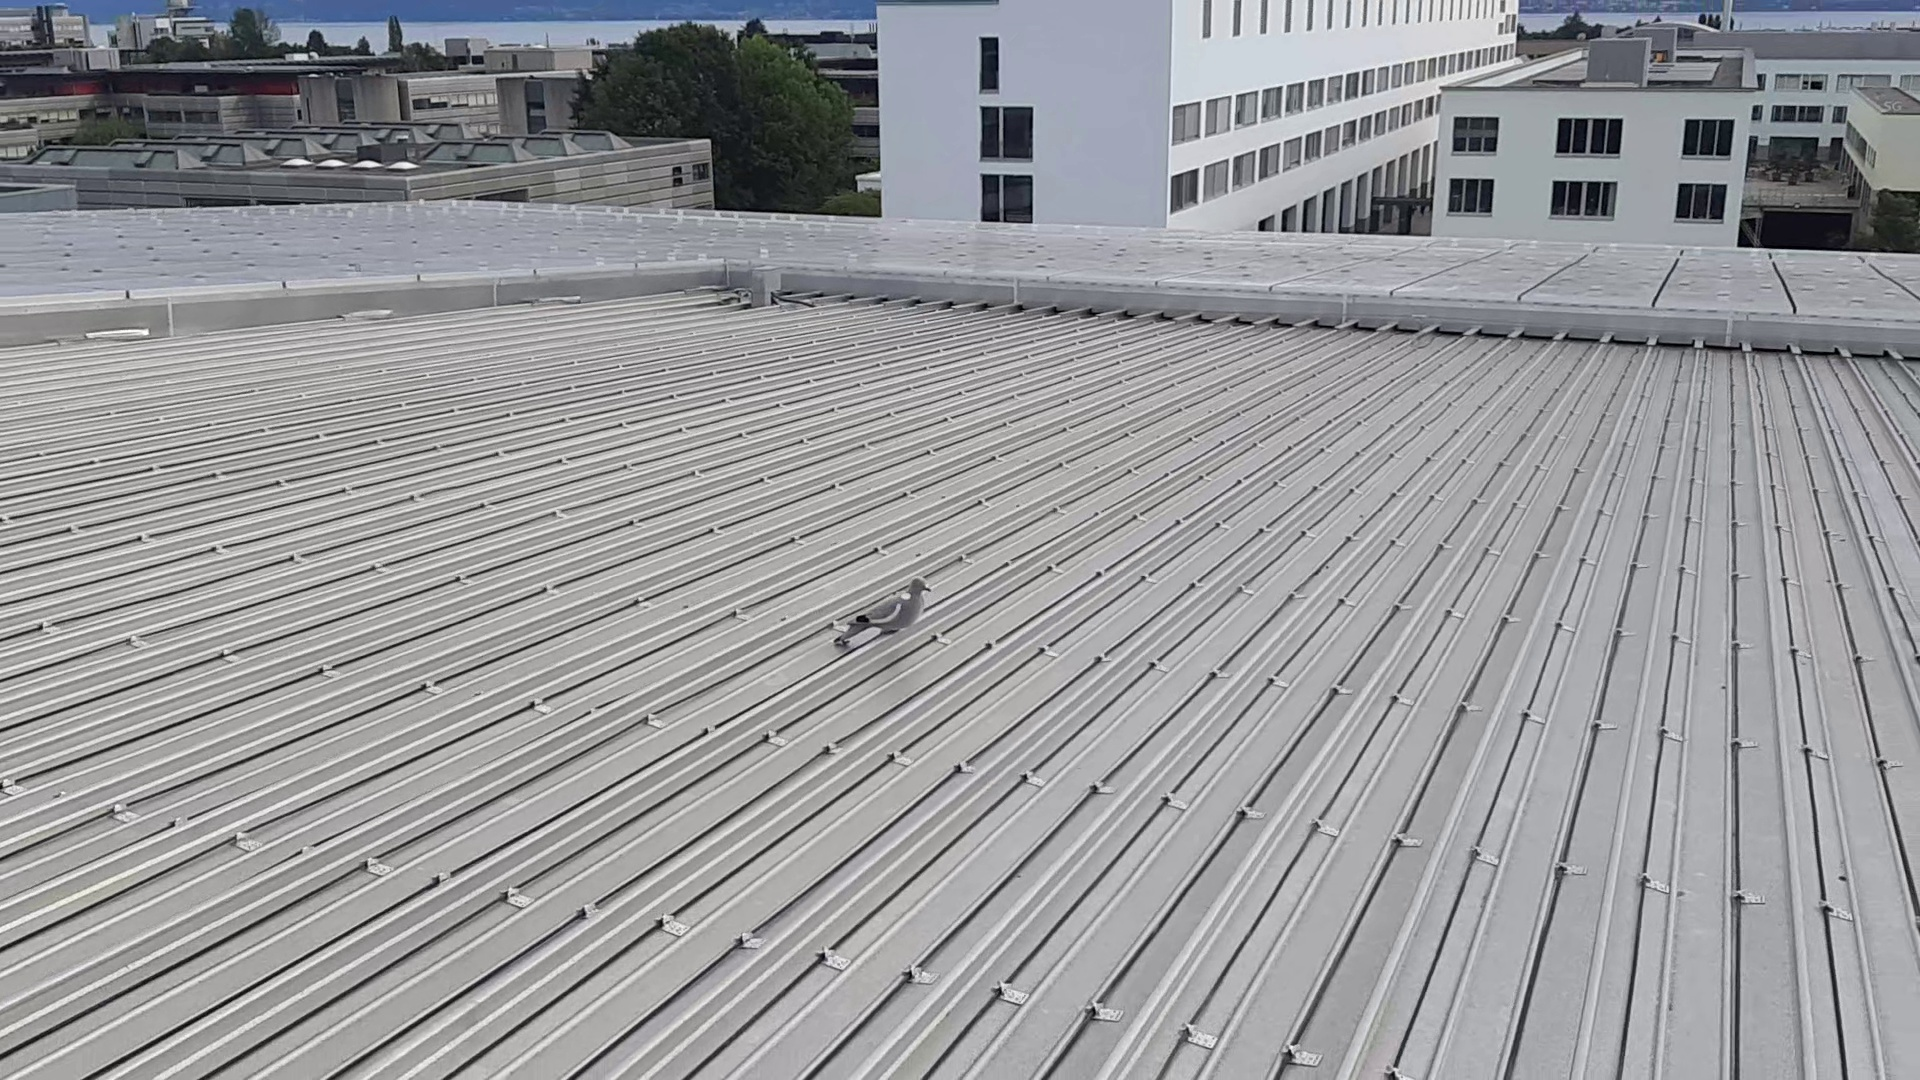Pigeon: (837, 574, 940, 649)
